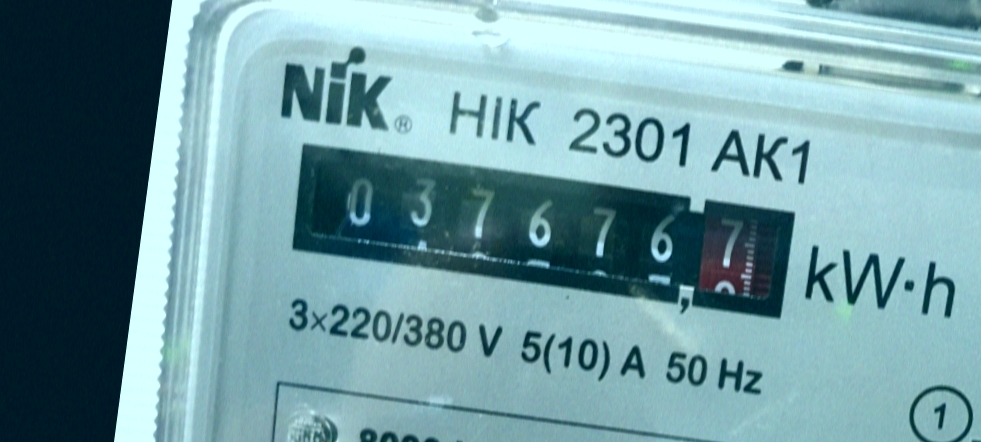0: (343, 169, 384, 228)
3: (407, 169, 441, 229)
6: (524, 190, 563, 248), (647, 206, 683, 264)
7: (585, 200, 623, 262), (463, 180, 501, 240), (714, 211, 749, 270)
screen: (273, 123, 816, 337)
